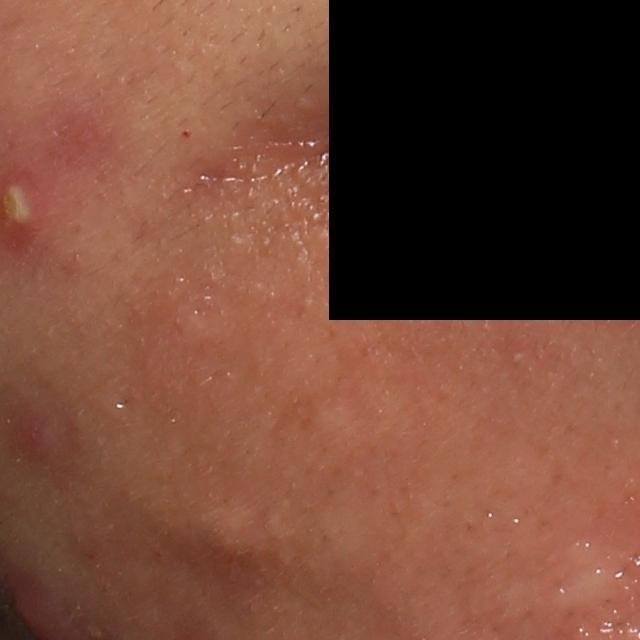hypertrophic_scar: (542, 536, 632, 614), (191, 504, 265, 572), (308, 397, 380, 457)
papule: (6, 411, 59, 458)
